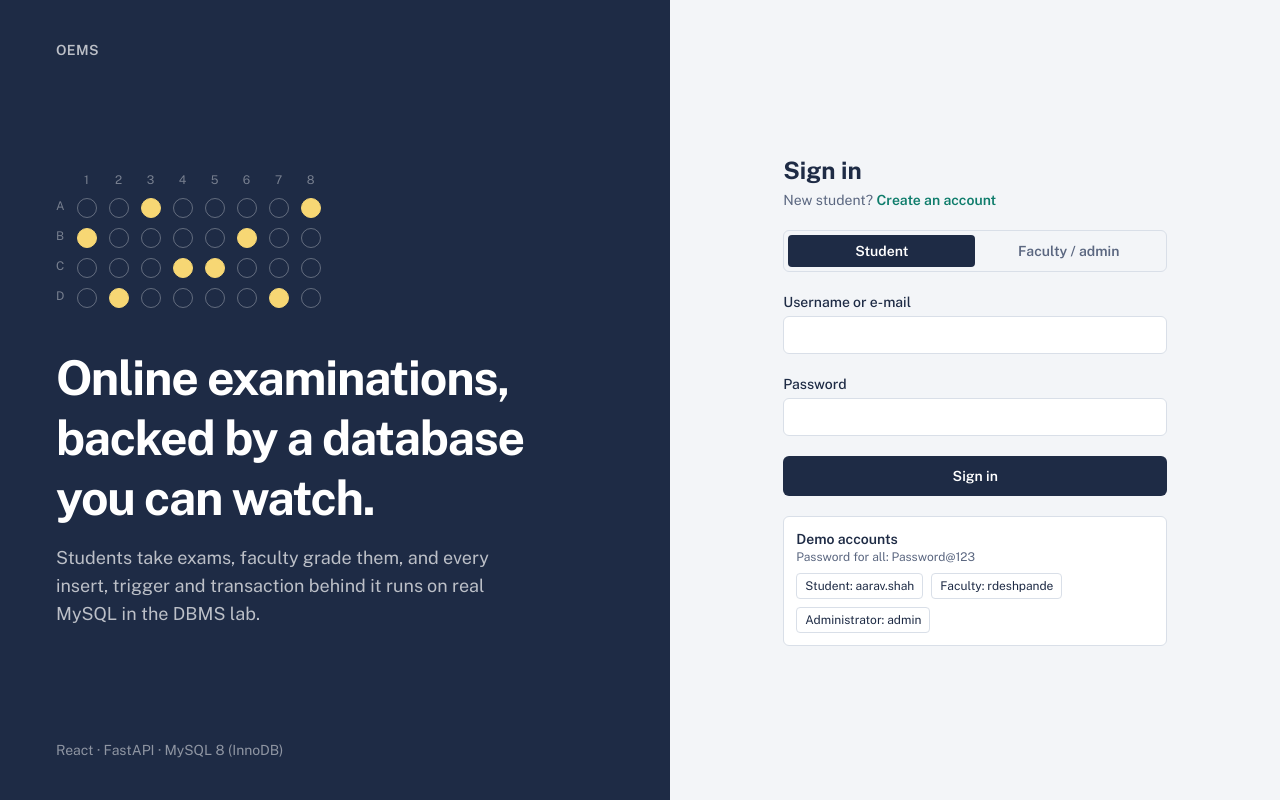
login form › shows the server error for wrong credentials
Type "admin" into the field labelled "Username or e-mail". click: (975, 335)
box: [783,316,1167,354]
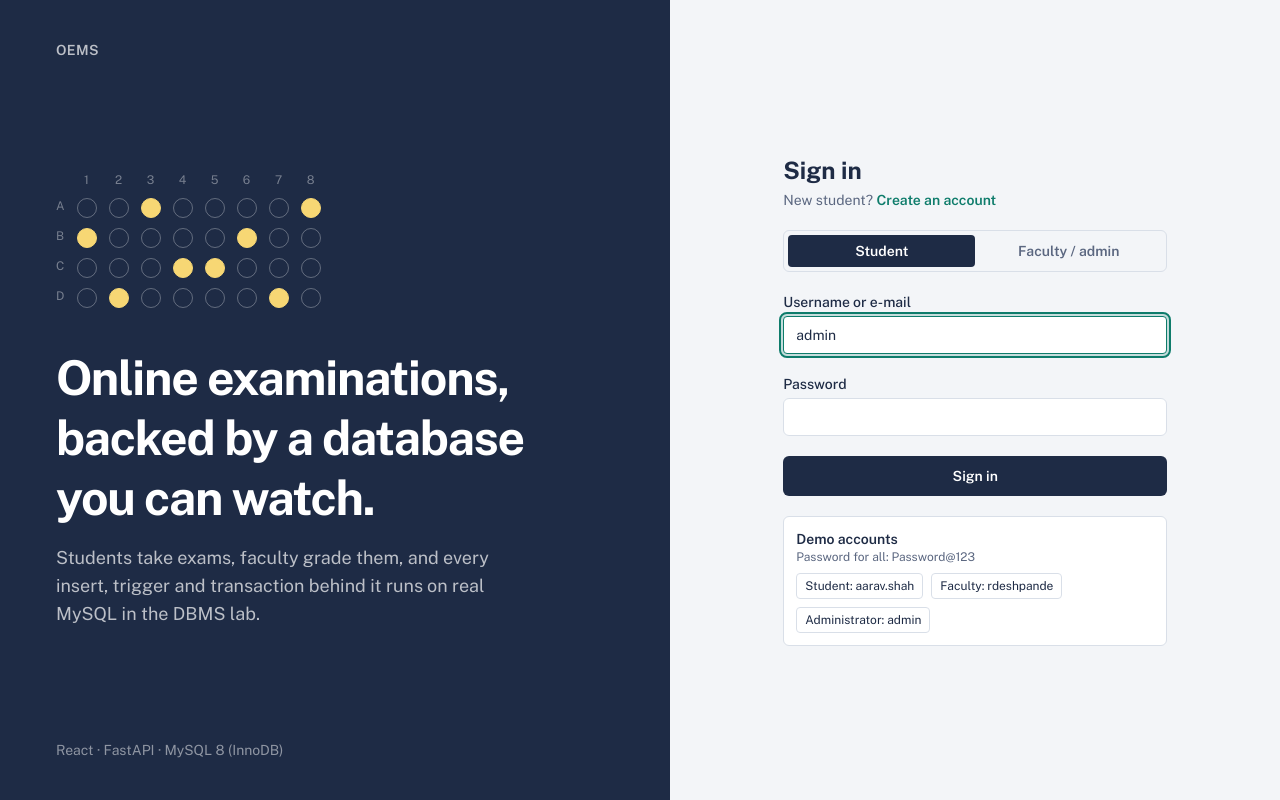
Type "wrong" into the password field labelled "Password". click: (975, 417)
box: [783,398,1167,436]
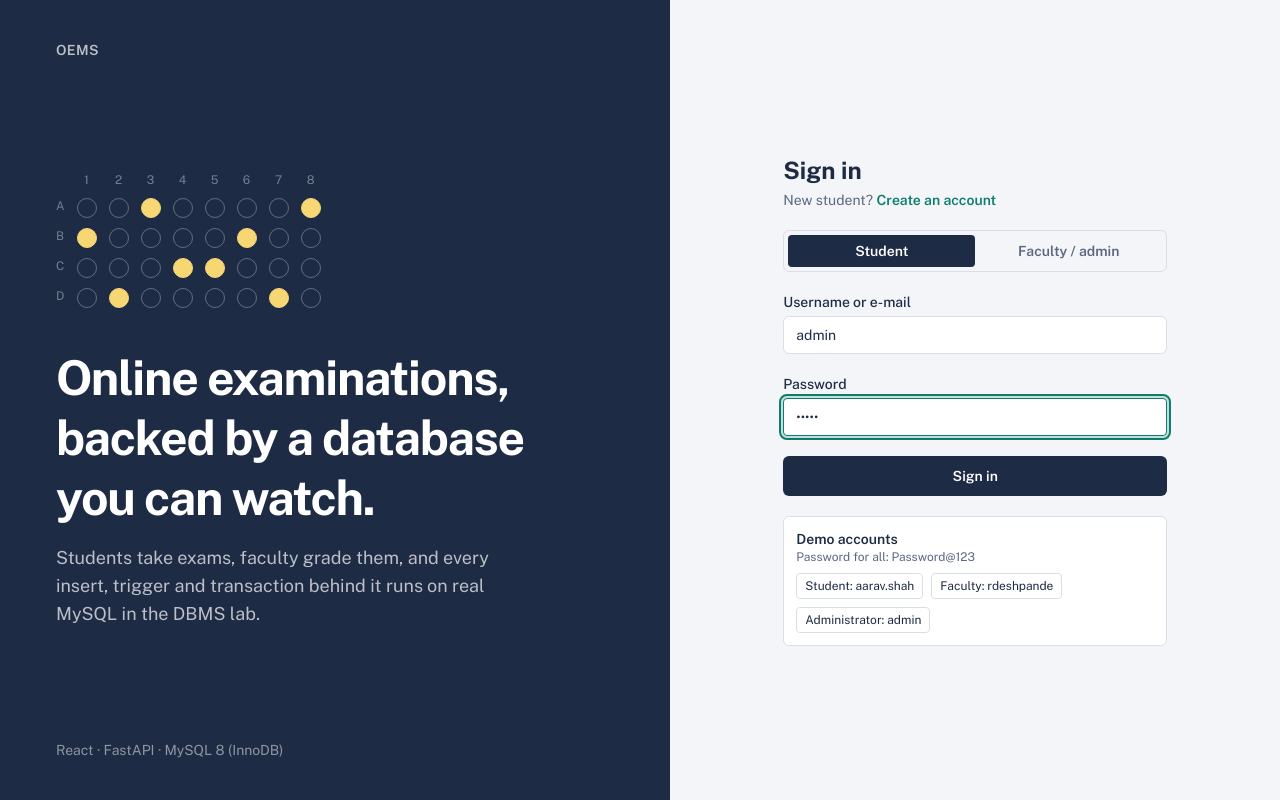
Click the button "Sign in". click: (975, 476)
box: [783,456,1167,496]
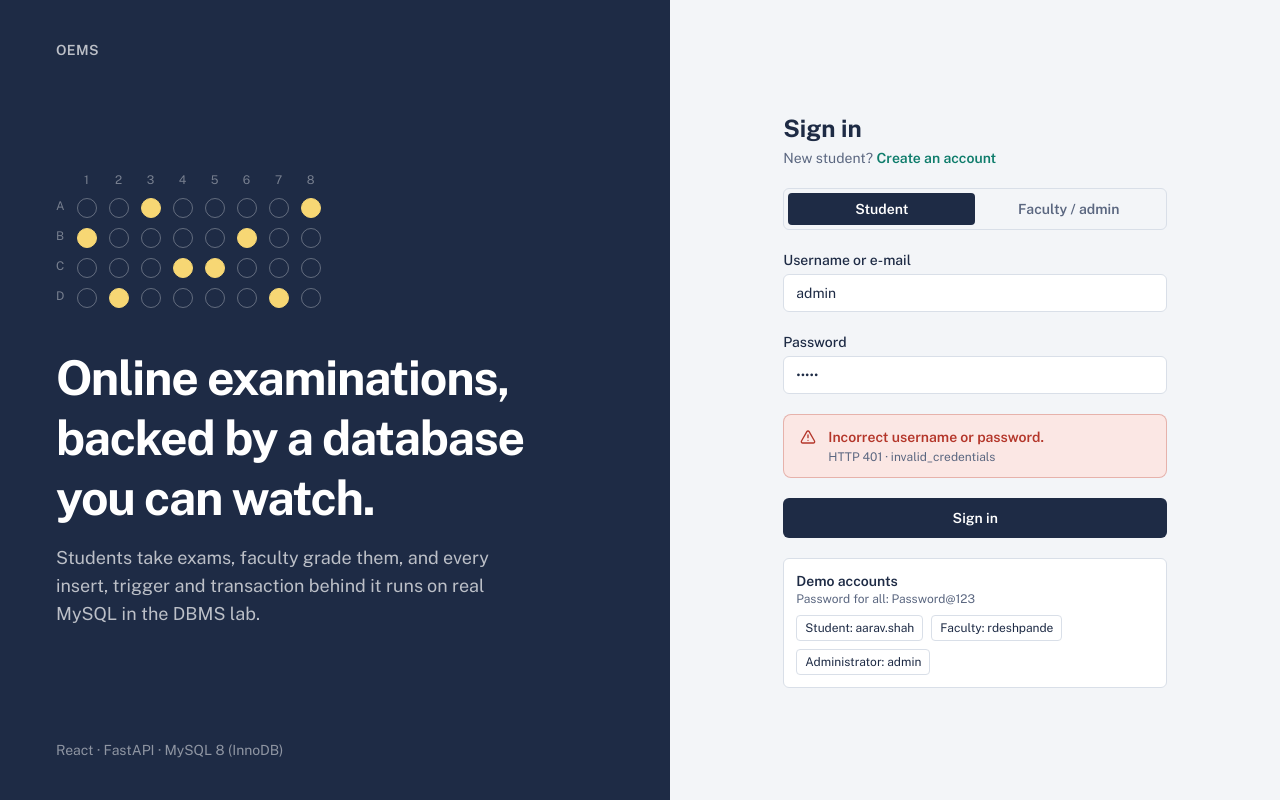
Result: the message shows "Incorrect username or password." at [828,429,1044,445]
